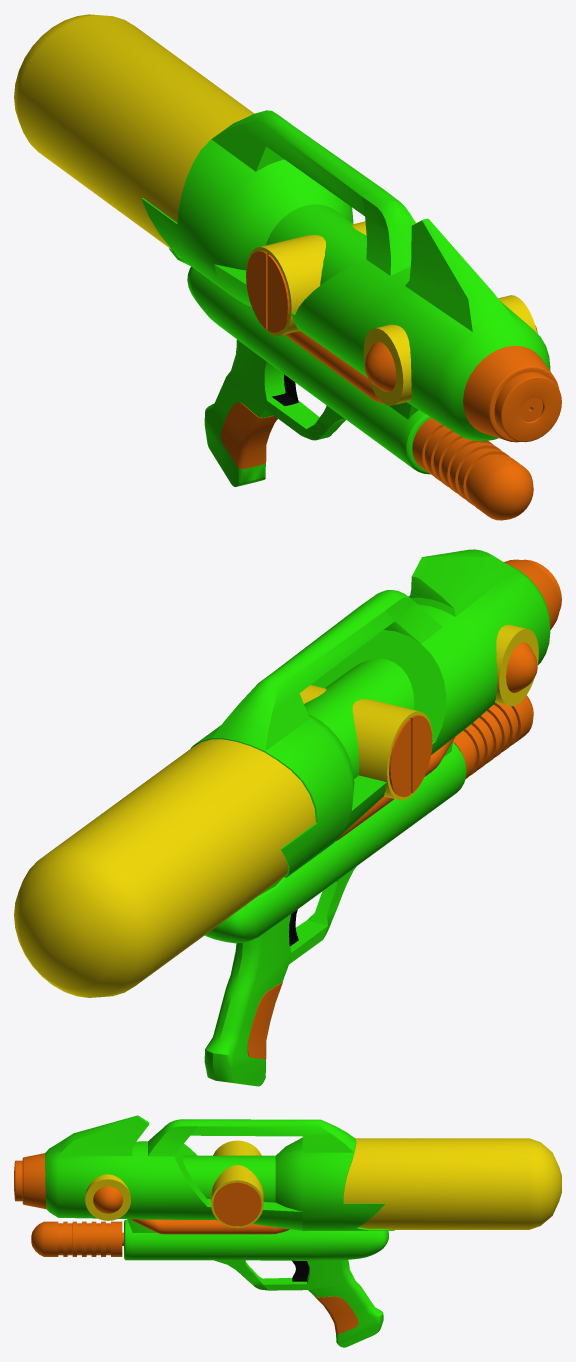
File: watergun.fbx
The picture shows the model from 3 angles, top to bottom: view 1: azimuth 30°, elevation 25°; view 2: azimuth 150°, elevation 25°; view 3: azimuth 270°, elevation 25°; orthographic projection. The views are drawn at different scales.
Parts seen in each view (by area): view 1: Cylinder; view 2: Cylinder; view 3: Cylinder.
Boxes of the visible parts, x1,y1,x2,y2 form: Cylinder: (14, 14, 561, 520); Cylinder: (14, 549, 561, 1086); Cylinder: (14, 1115, 561, 1347).
Size of the model in its own units: 98.61 by 222 by 484.
